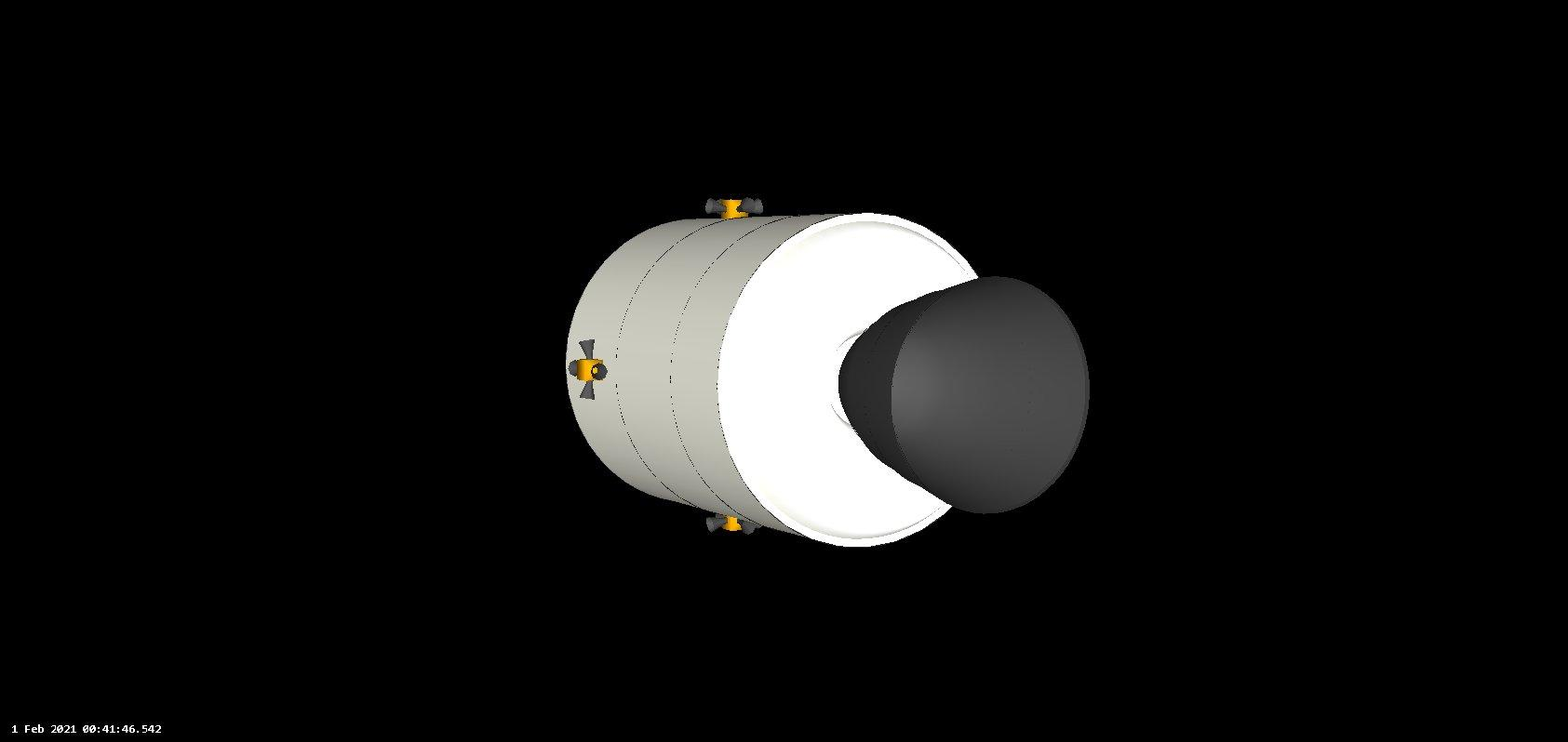body: (566, 213, 980, 543)
thruster: (839, 272, 1092, 514), (577, 338, 596, 361), (705, 197, 728, 215), (579, 379, 596, 401), (706, 515, 728, 532), (736, 196, 756, 213), (735, 520, 756, 536), (590, 363, 609, 380), (747, 198, 765, 215), (568, 359, 580, 377), (713, 512, 729, 521), (750, 522, 761, 530)
